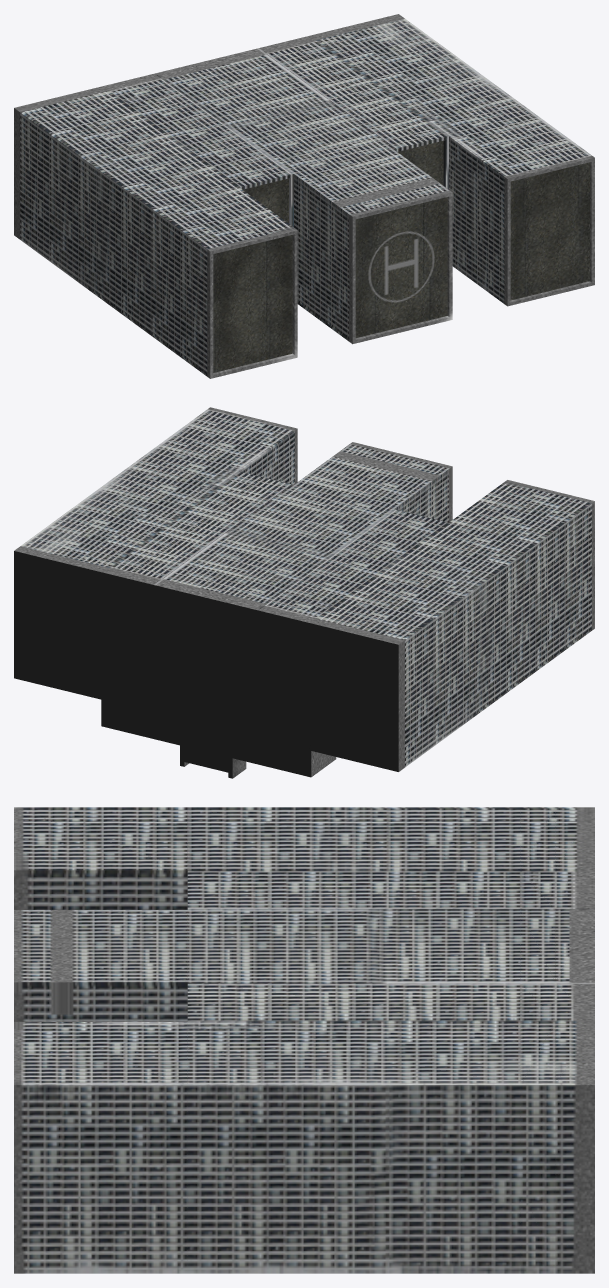
File: 10075_Hospital Building_V1_L3.obj
3 views of the same model, one above another, from view 1: azimuth 30°, elevation 25°; view 2: azimuth 150°, elevation 25°; view 3: azimuth 270°, elevation 25° (orthographic). The views are drawn at different scales.
Visible parts, largest first — view 1: 10075_Hospital_Building_V1; view 2: 10075_Hospital_Building_V1; view 3: 10075_Hospital_Building_V1.
Part boxes in pixels (x1=…): 10075_Hospital_Building_V1: x1=14, y1=14, x2=594, y2=378; 10075_Hospital_Building_V1: x1=14, y1=407, x2=594, y2=778; 10075_Hospital_Building_V1: x1=14, y1=807, x2=594, y2=1273.
Size of the model in its own units: 4971 by 2154 by 4393.
Materials: 1 (1 with a texture image).
